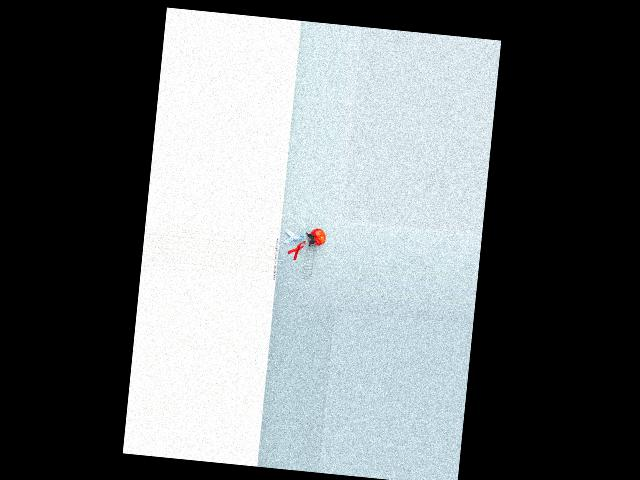tomato: (308, 228, 326, 246)
